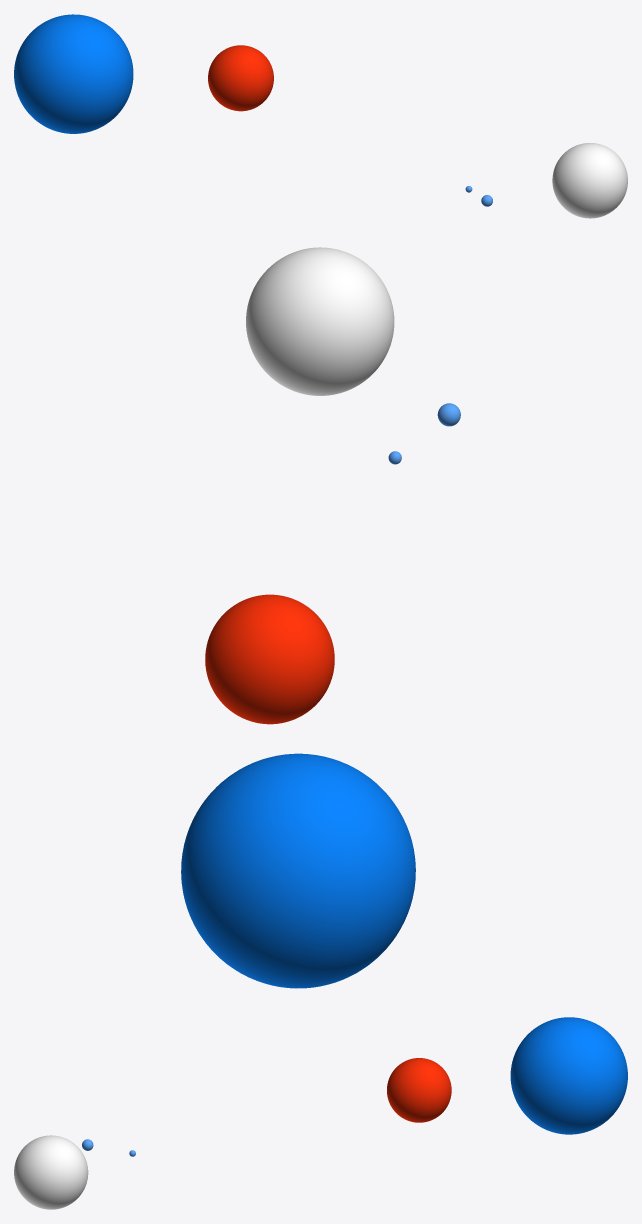
Rendered from startut.glb.
3 renders of one model, top to bottom at view 1: azimuth 30°, elevation 25°; view 2: azimuth 150°, elevation 25°; view 3: azimuth 270°, elevation 25°, orthographic. The views are drawn at different scales.
Visible parts, largest first — view 1: star, Gasplanet, star.001; view 2: star, Gasplanet, star.001; view 3: star, Gasplanet, star.001.
Part boxes in pixels (x1,y1,x2,y2): star: (14, 14, 133, 133); Gasplanet: (552, 143, 627, 218); star.001: (208, 45, 273, 111); star: (181, 753, 415, 988); Gasplanet: (246, 247, 394, 395); star.001: (205, 594, 334, 724); star: (510, 1017, 627, 1134); Gasplanet: (14, 1135, 88, 1209); star.001: (387, 1058, 451, 1122).
Size of the model in its own units: 10.3 by 3.32 by 16.53.
